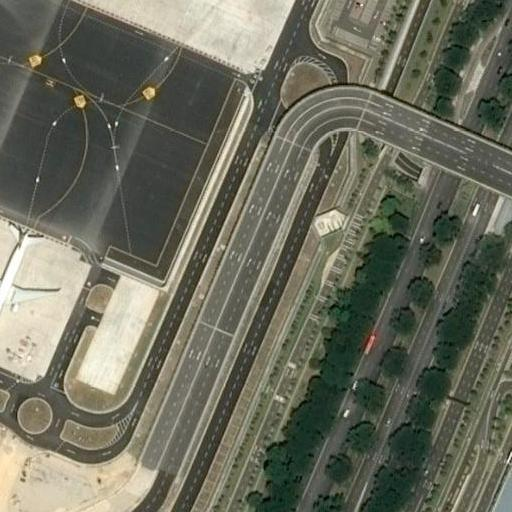Aircraft: (0, 216, 60, 345), (0, 217, 59, 343), (35, 0, 131, 1)
